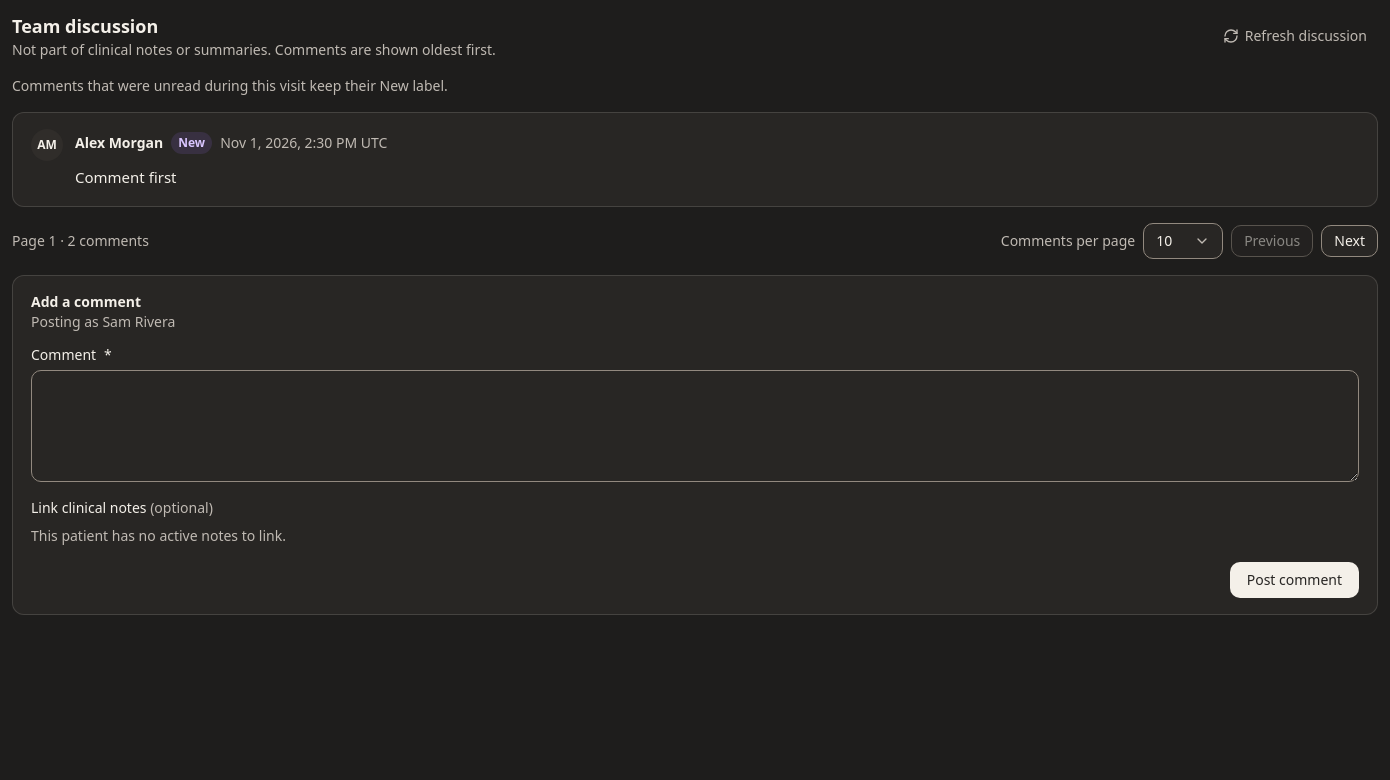
Test: displayed discussion acknowledgments › follows opaque Next cursors and known Previous history, then starts page one at the new size
# A cursor can exist even when total/page-size arithmetic says there is only one page.
Step 1. Click the button "Next" → (1350, 241), box [1321,225,1378,257]
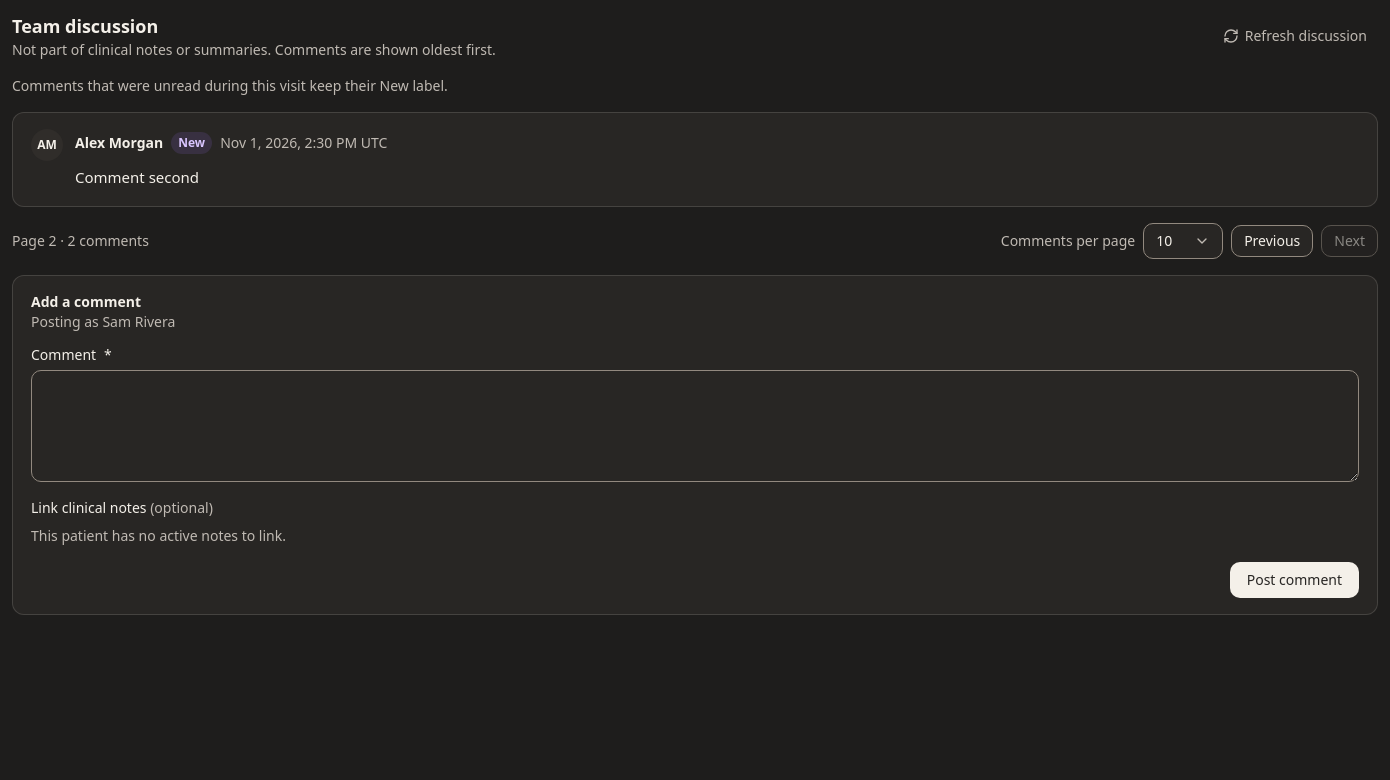
Check: the text "Comment second" is shown, box [75,167,199,187]
Check: the button "Next" is disabled, box [1321,225,1378,257]
Step 2. Click the button "Previous" → (1272, 241), box [1231,225,1313,257]
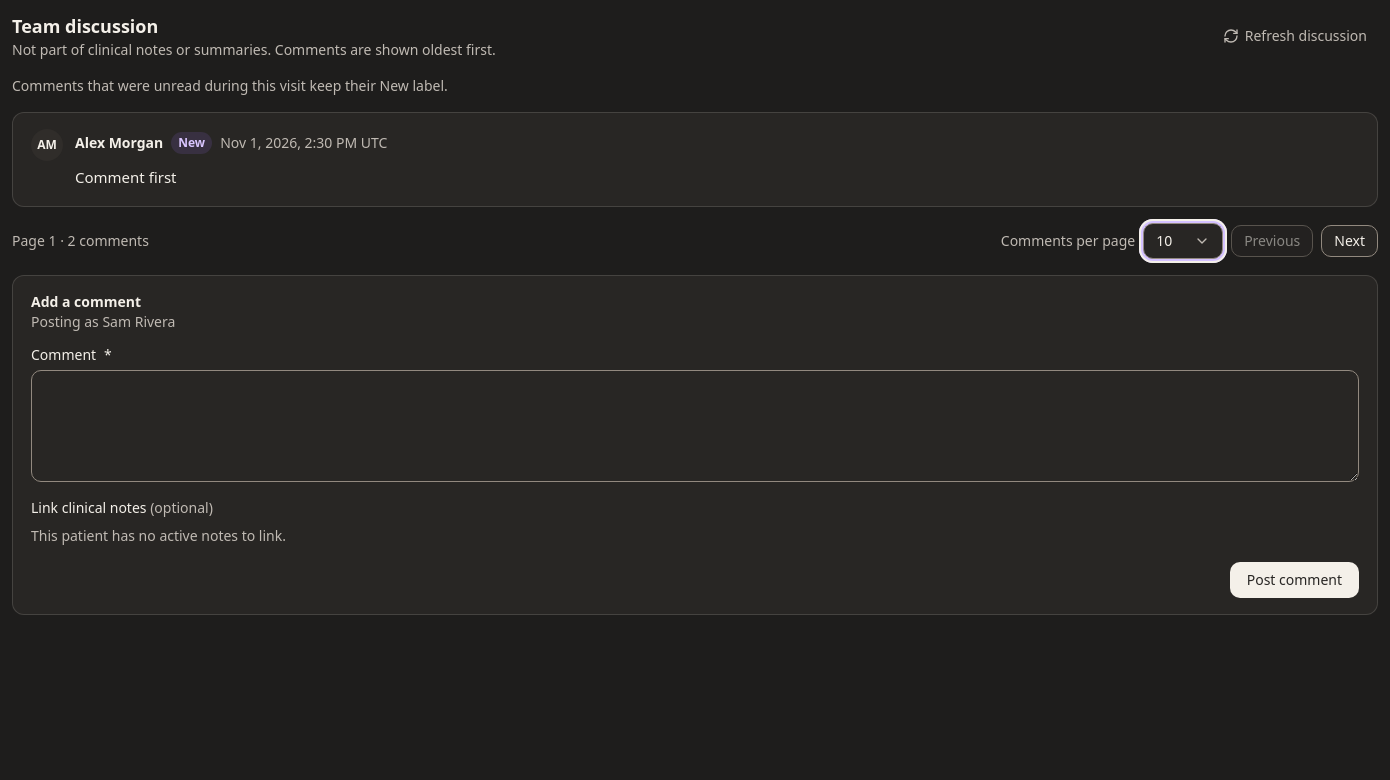
Check: the text "Comment first" is shown, box [75,167,176,187]
Step 3. Press Arrowdown
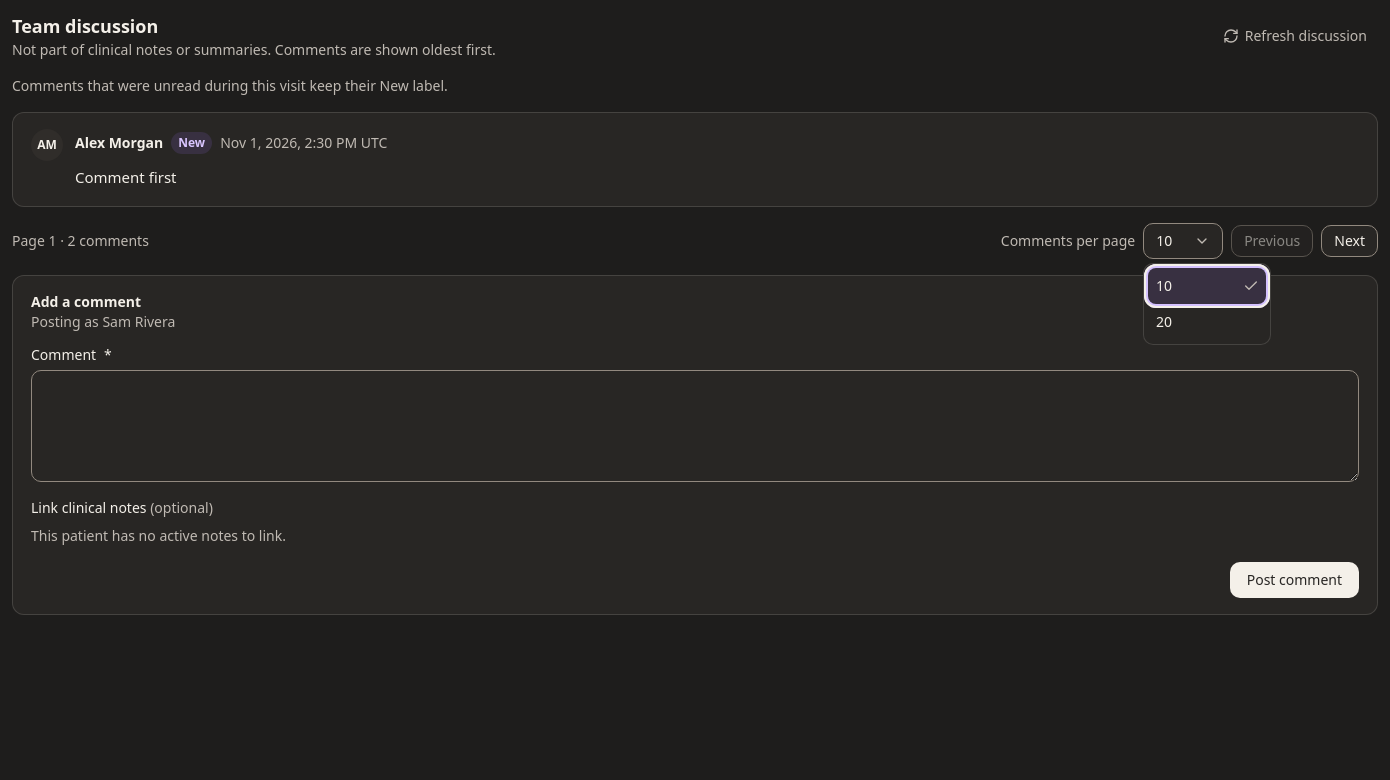
Step 4. Press Arrowdown Enter
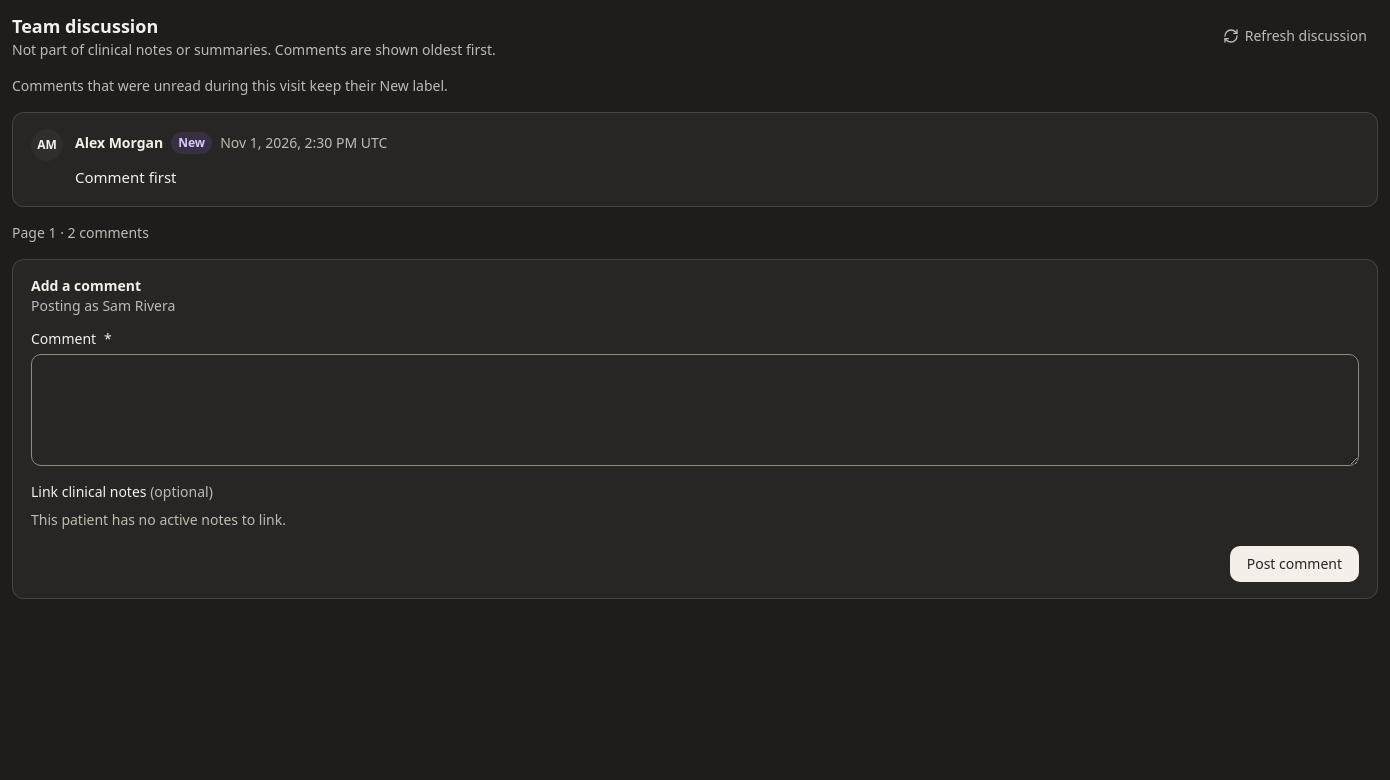
Check: the text "Page 1 · 2 comments" is shown, box [12,223,149,243]
Check: the button "Previous" is gone
